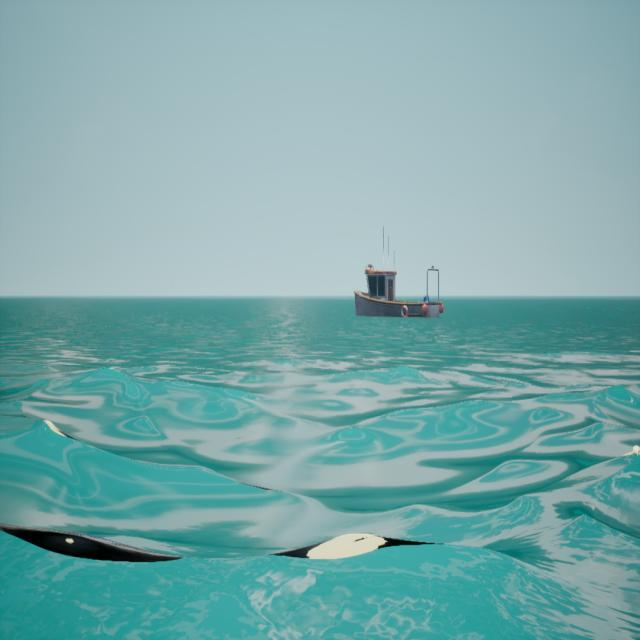ship: (348, 225, 449, 334)
